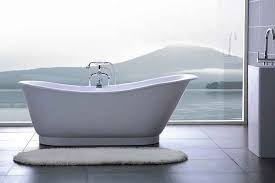bathub: (17, 69, 202, 146)
